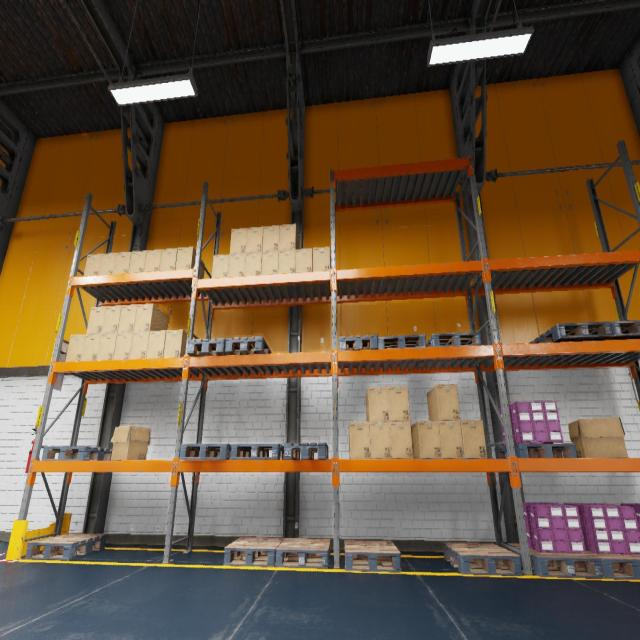box: (568, 417, 628, 458), (110, 425, 150, 460), (427, 384, 460, 420), (411, 421, 442, 458), (460, 420, 487, 458), (134, 303, 168, 332), (175, 246, 205, 278), (439, 421, 464, 458), (390, 421, 413, 459), (369, 422, 392, 459), (348, 422, 371, 459), (164, 330, 194, 358), (366, 386, 389, 422), (313, 246, 331, 291), (388, 386, 410, 421), (65, 334, 86, 362), (279, 223, 300, 250), (146, 330, 166, 358), (102, 305, 122, 333), (86, 306, 106, 334), (97, 333, 117, 360), (130, 331, 149, 359), (118, 304, 137, 332), (113, 333, 133, 359), (81, 334, 101, 360), (262, 225, 280, 251), (246, 226, 263, 252), (230, 228, 247, 254), (128, 250, 147, 273), (295, 248, 313, 272), (113, 251, 131, 274), (84, 253, 102, 276), (261, 251, 279, 274), (244, 252, 262, 275), (228, 253, 245, 277), (212, 254, 229, 278), (160, 248, 178, 270), (144, 249, 162, 271), (98, 252, 116, 274), (278, 250, 295, 273)
pallets: (508, 544, 604, 578), (443, 542, 522, 576), (24, 533, 107, 560), (344, 540, 402, 572), (529, 321, 613, 343), (224, 537, 284, 566), (584, 550, 640, 580), (276, 538, 330, 568), (495, 443, 577, 458), (41, 446, 112, 460), (597, 320, 640, 340), (225, 337, 272, 355), (426, 332, 482, 347), (230, 444, 284, 459), (179, 444, 231, 459), (284, 442, 328, 459), (187, 338, 228, 356), (378, 334, 426, 348), (339, 334, 378, 350)
